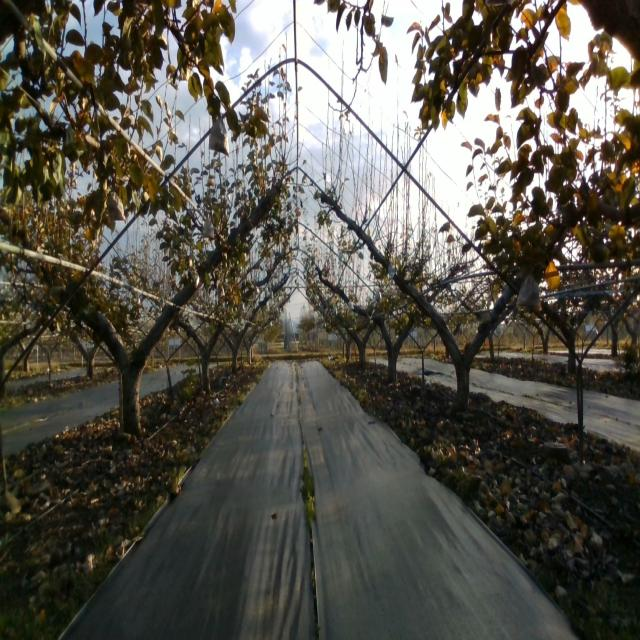pearbags: (516, 273, 542, 313), (209, 117, 229, 157), (106, 190, 126, 223), (202, 212, 215, 241)
